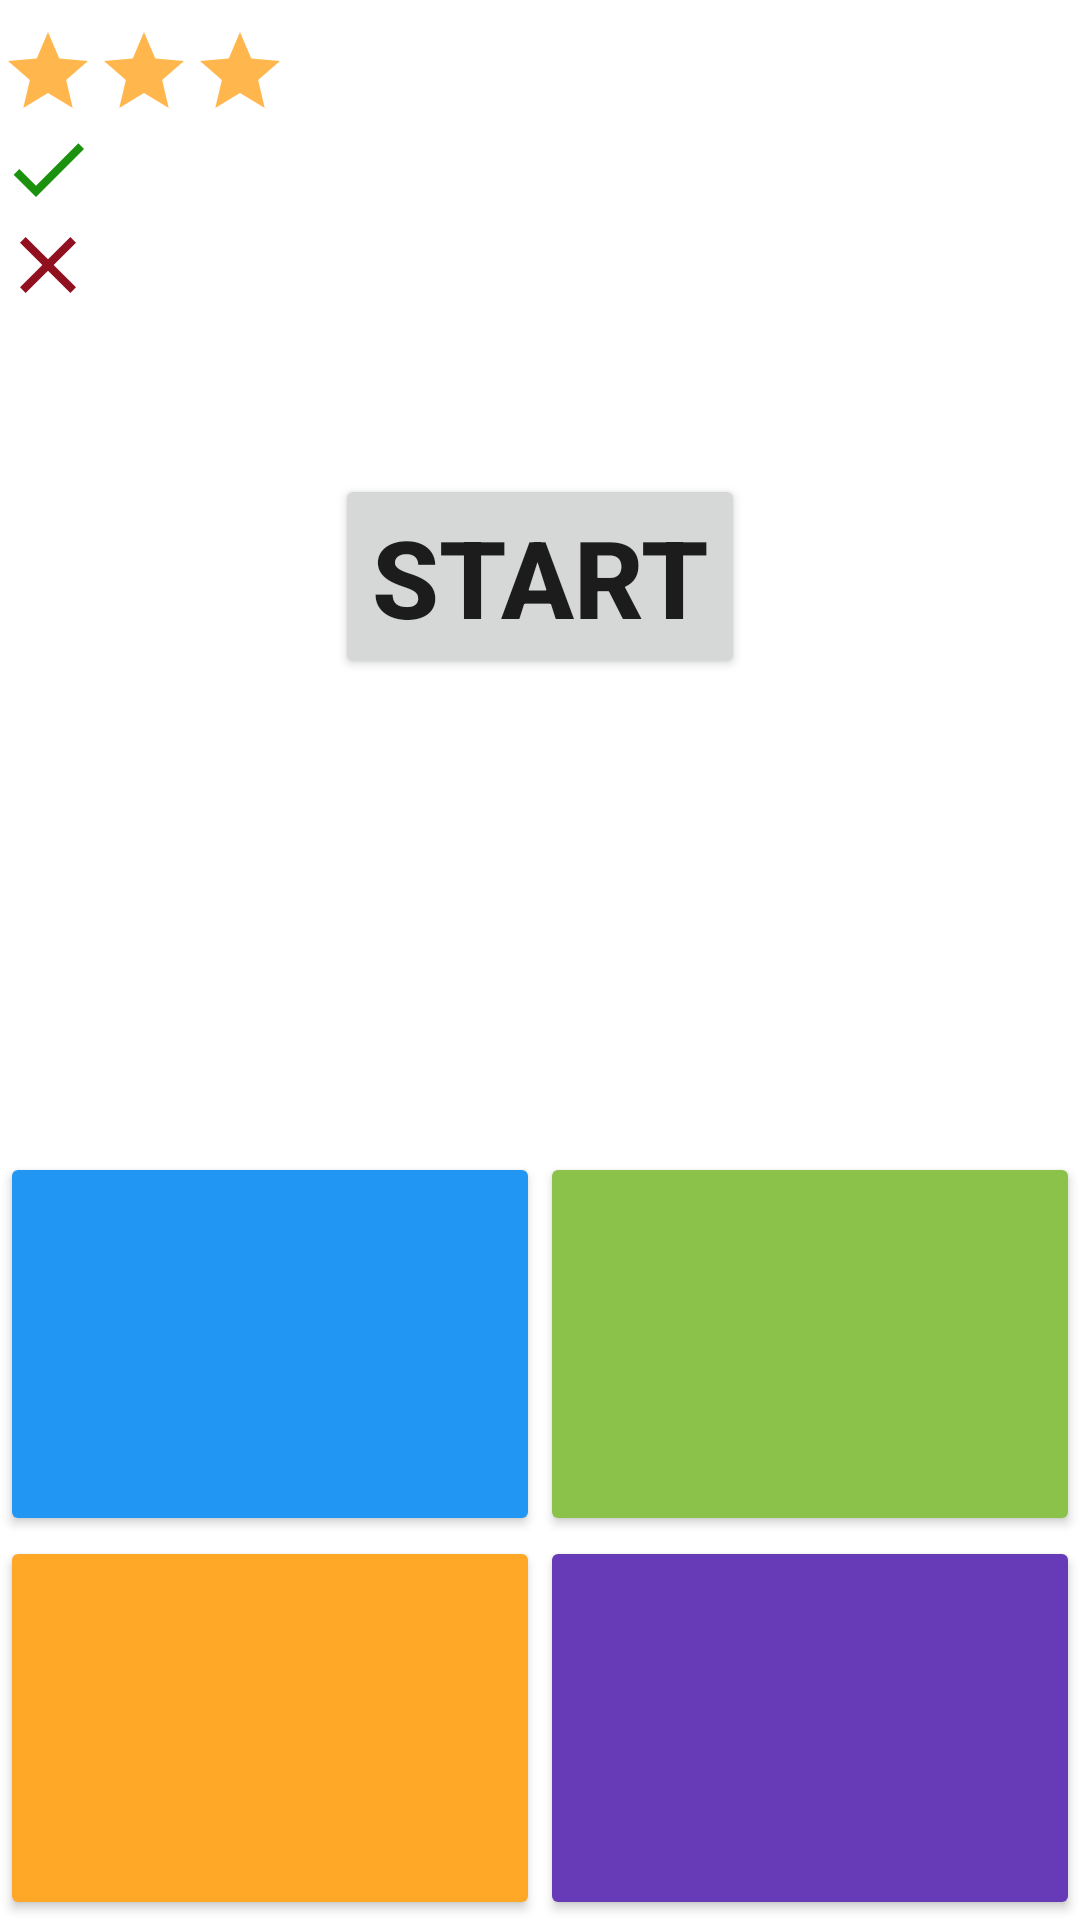

Where icons sit on this 1080px x 1920px app screen, as (x1, y1, x2, y2):
level: (8, 32, 88, 108), (104, 32, 184, 108), (200, 32, 280, 108)
right: (13, 143, 84, 197)
wrongs number: (20, 237, 76, 293)
